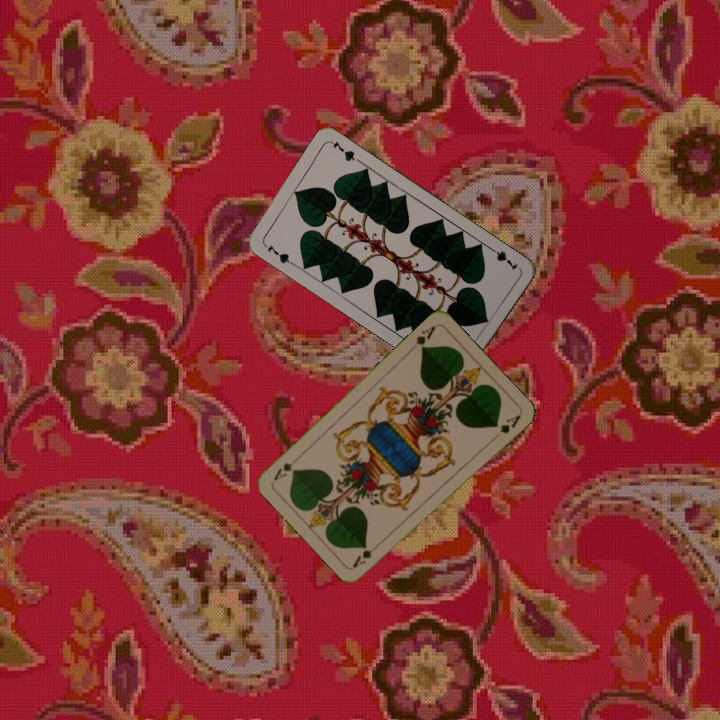G7: (484, 243, 521, 273), (260, 240, 296, 267)
GA: (406, 321, 439, 353), (349, 539, 383, 570)
